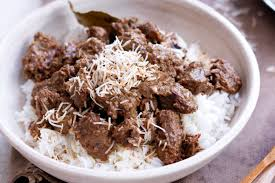rendang: (21, 12, 257, 173)
